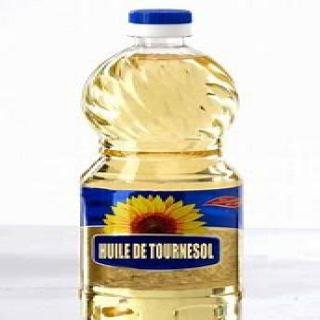Plastic-bottle: (69, 2, 254, 320)
